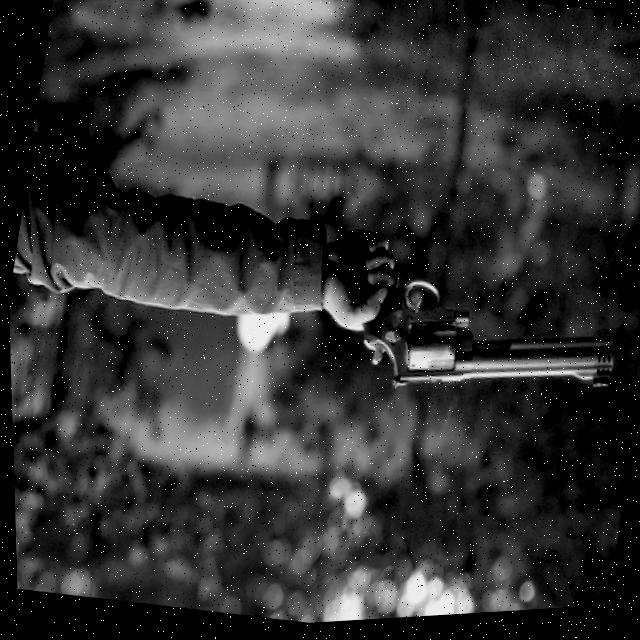pistol: (346, 262, 624, 438)
